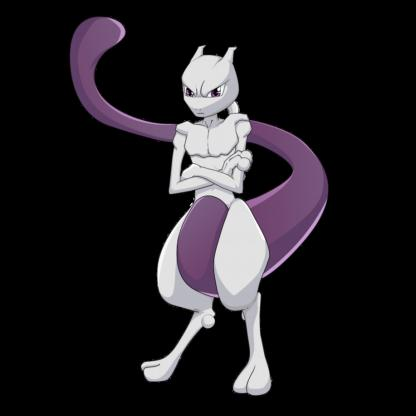Mewtwo: (63, 8, 334, 406)
